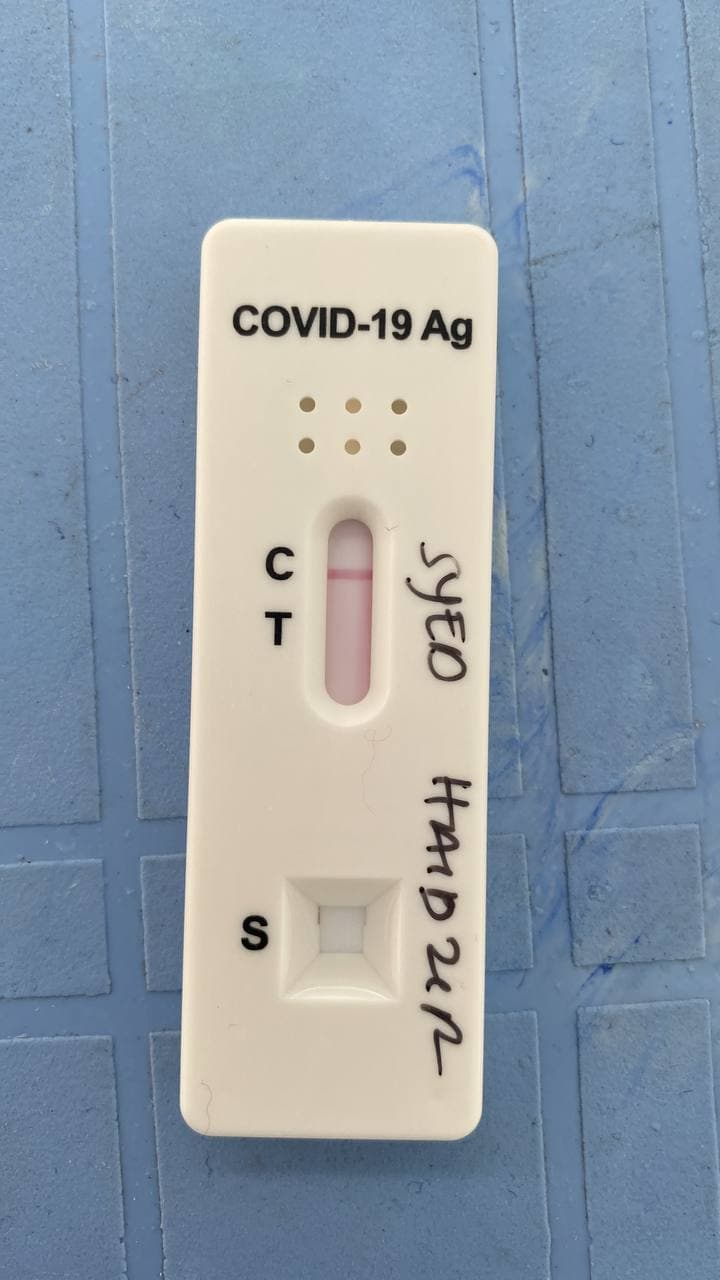rapid_test: (182, 202, 504, 1160)
